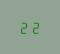two: (19, 20, 29, 34), (30, 19, 40, 33)
